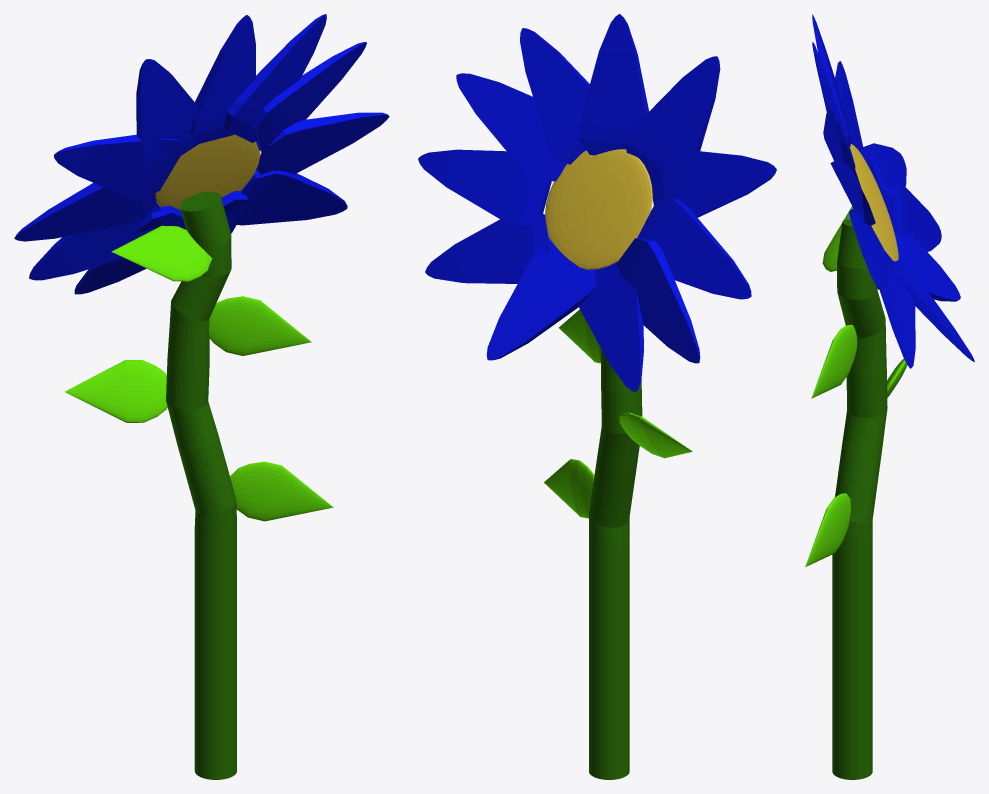
File: blueFlower.fbx
3 views of the same model, side by side, from view 1: azimuth 30°, elevation 25°; view 2: azimuth 150°, elevation 25°; view 3: azimuth 270°, elevation 25° (orthographic). The views are drawn at different scales.
Visible parts, largest first — view 1: blueFlower; view 2: blueFlower; view 3: blueFlower.
Part boxes in pixels (box(x1,y1,x2,y2)): blueFlower: box(14, 14, 389, 779); blueFlower: box(418, 14, 776, 779); blueFlower: box(805, 14, 974, 779).
Size of the model in its own units: 15.18 by 30.94 by 6.49.
